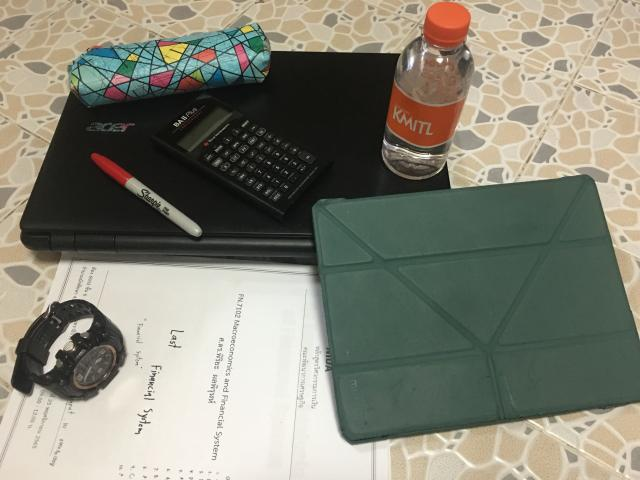Pen: (91, 152, 202, 236)
Watch: (11, 299, 125, 398)
bottle: (382, 1, 474, 180)
paper: (0, 256, 393, 479)
